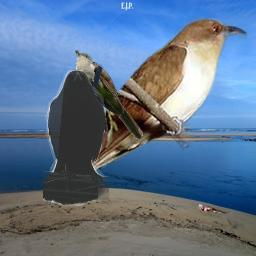Crow: (43, 70, 109, 206)
Cuckoo: (51, 16, 248, 206), (75, 50, 143, 139)
